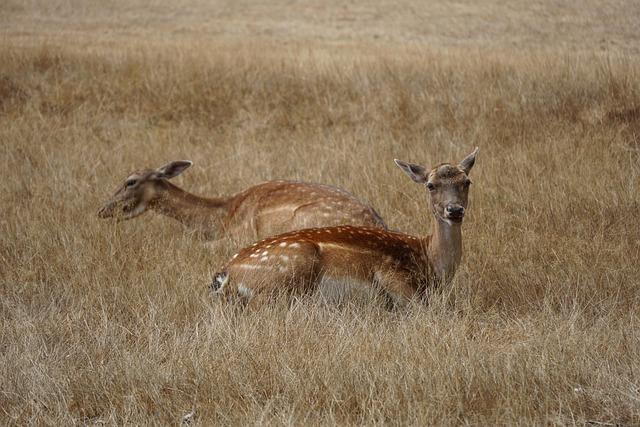Non_Gorille: (89, 63, 595, 394)
